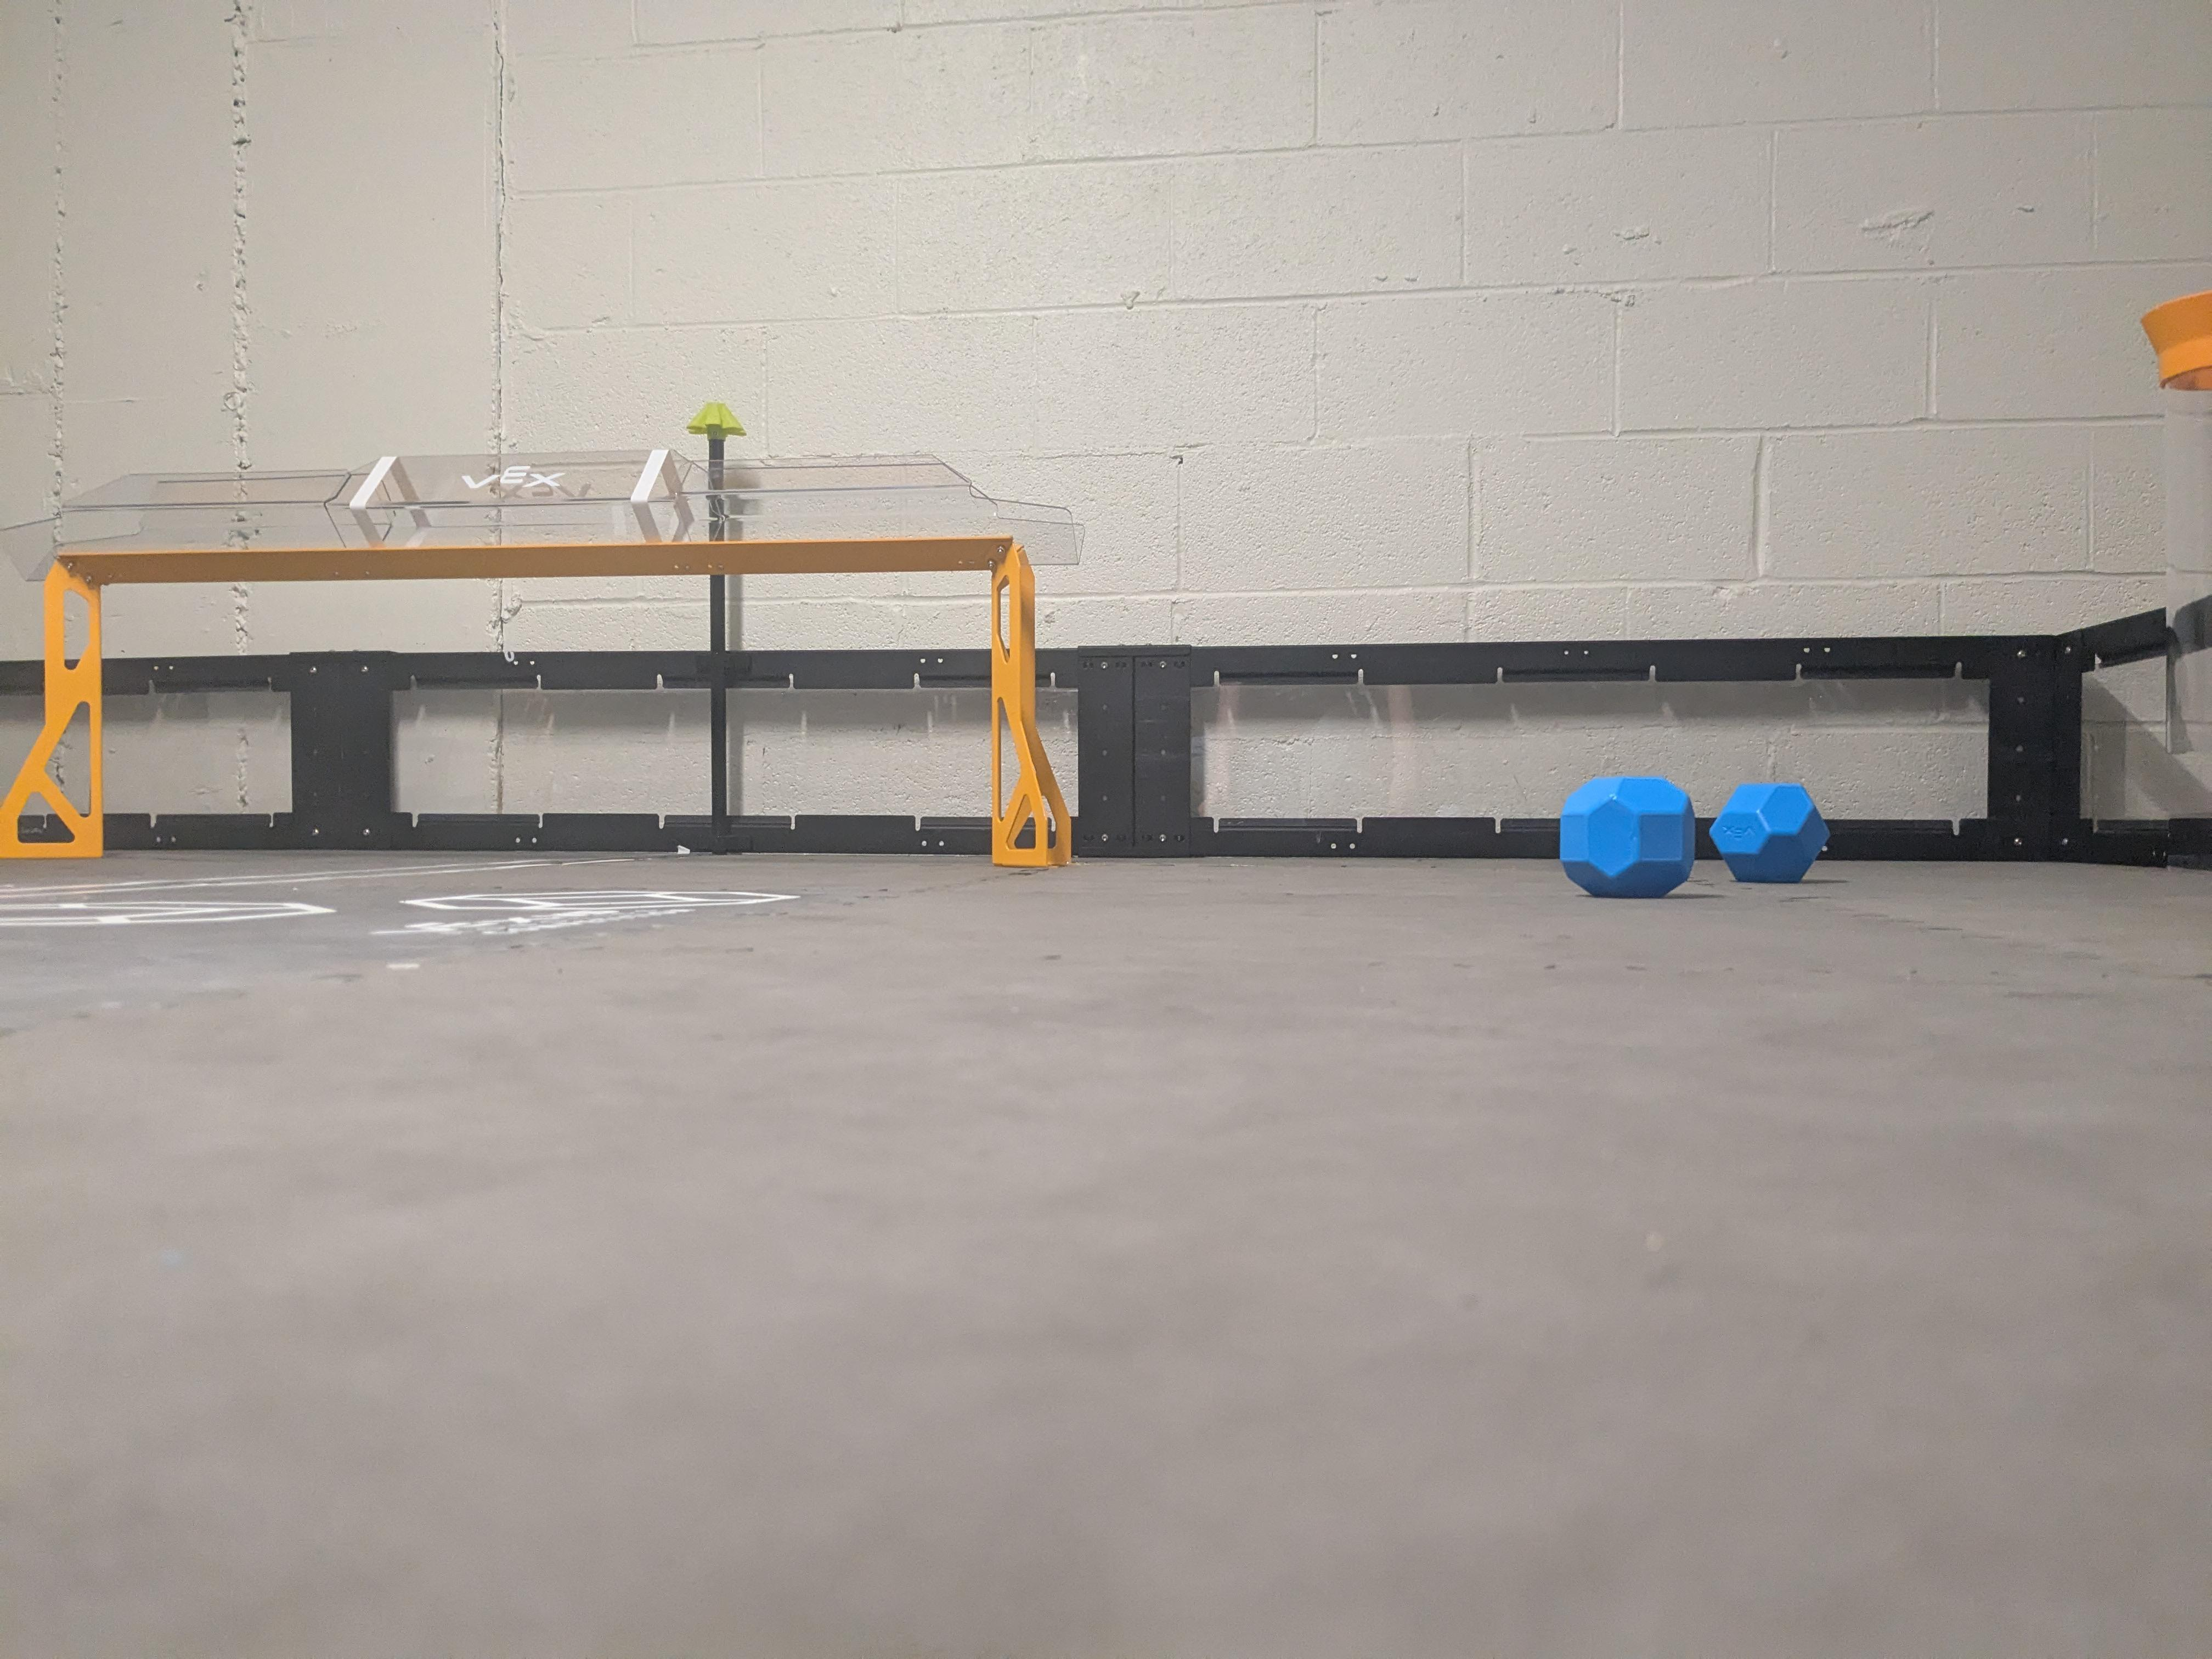Vex-Pieces-BLUE: (1552, 774, 1693, 896), (1717, 784, 1824, 880)
